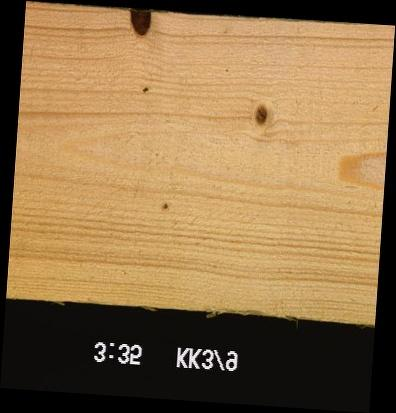small_knot: (159, 201, 170, 211)
sound_knot: (251, 103, 269, 126)
